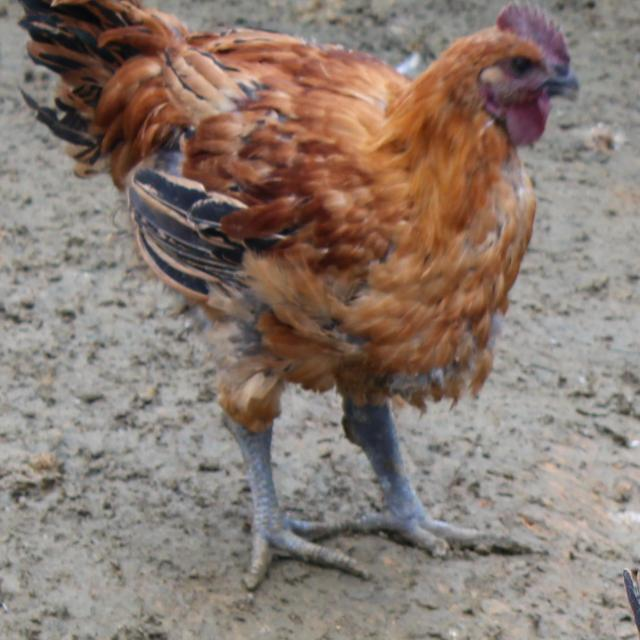hen: (21, 0, 578, 589)
